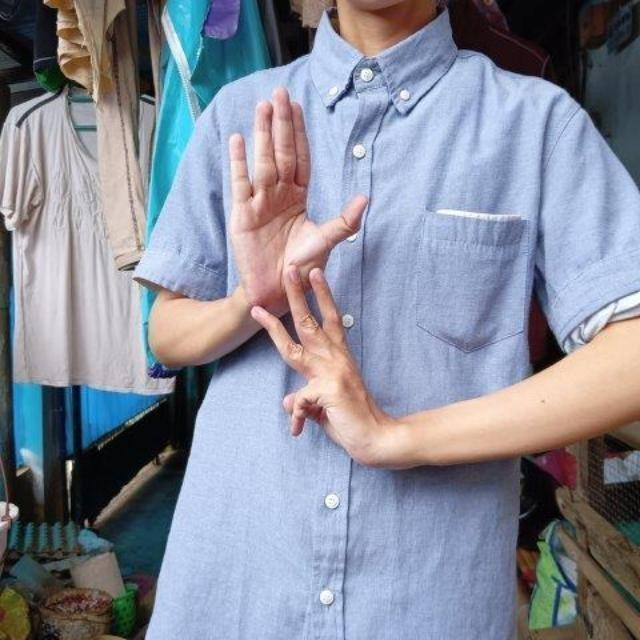M: (222, 82, 376, 395)
